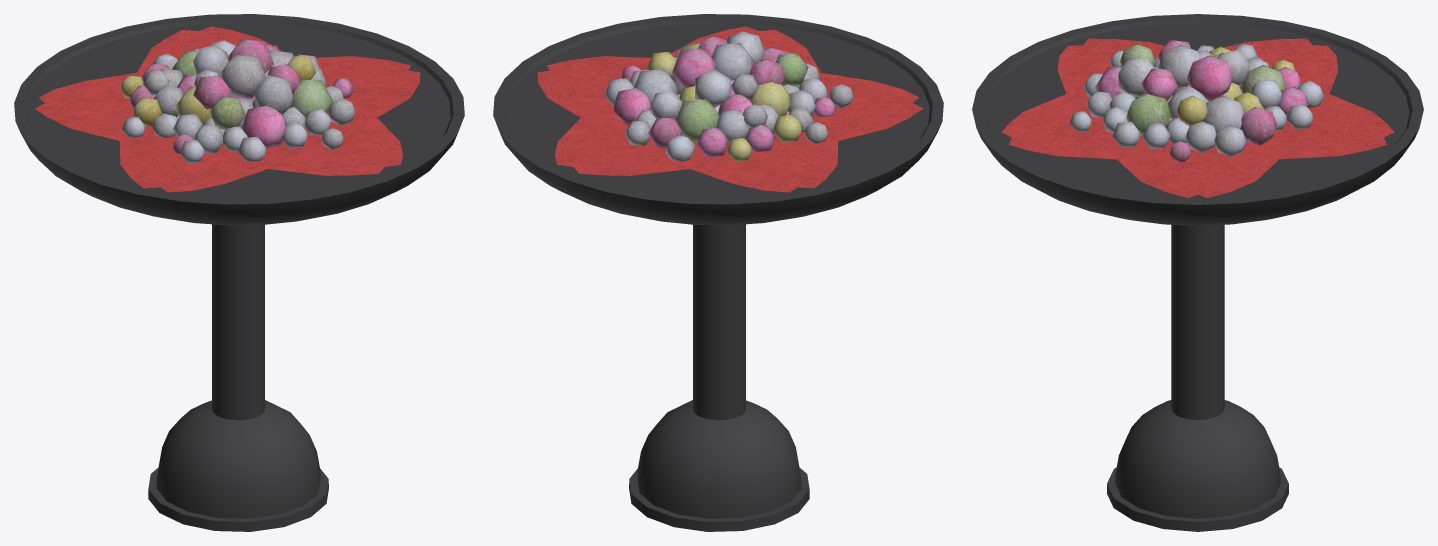
File: Hinaarare01.fbx
3 renders of one model, left to right at view 1: azimuth 30°, elevation 25°; view 2: azimuth 150°, elevation 25°; view 3: azimuth 270°, elevation 25°, orthographic.
Visible parts, largest first — view 1: Hinaarare01; view 2: Hinaarare01; view 3: Hinaarare01.
Boxes of the visible parts, left/top/right/bottom form: Hinaarare01: left=14, top=14, right=464, bottom=531; Hinaarare01: left=493, top=14, right=943, bottom=531; Hinaarare01: left=972, top=14, right=1423, bottom=531.
Bounding box in the file's own units: 25.13 × 27.31 × 25.13.
